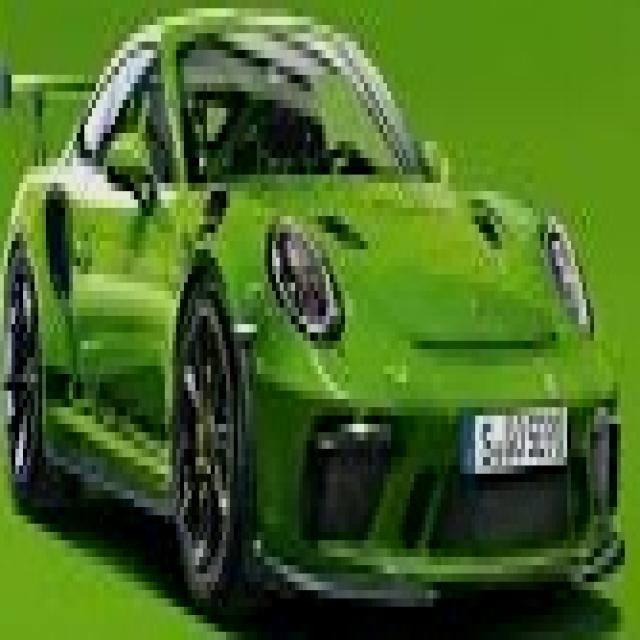green: (8, 14, 622, 614)
